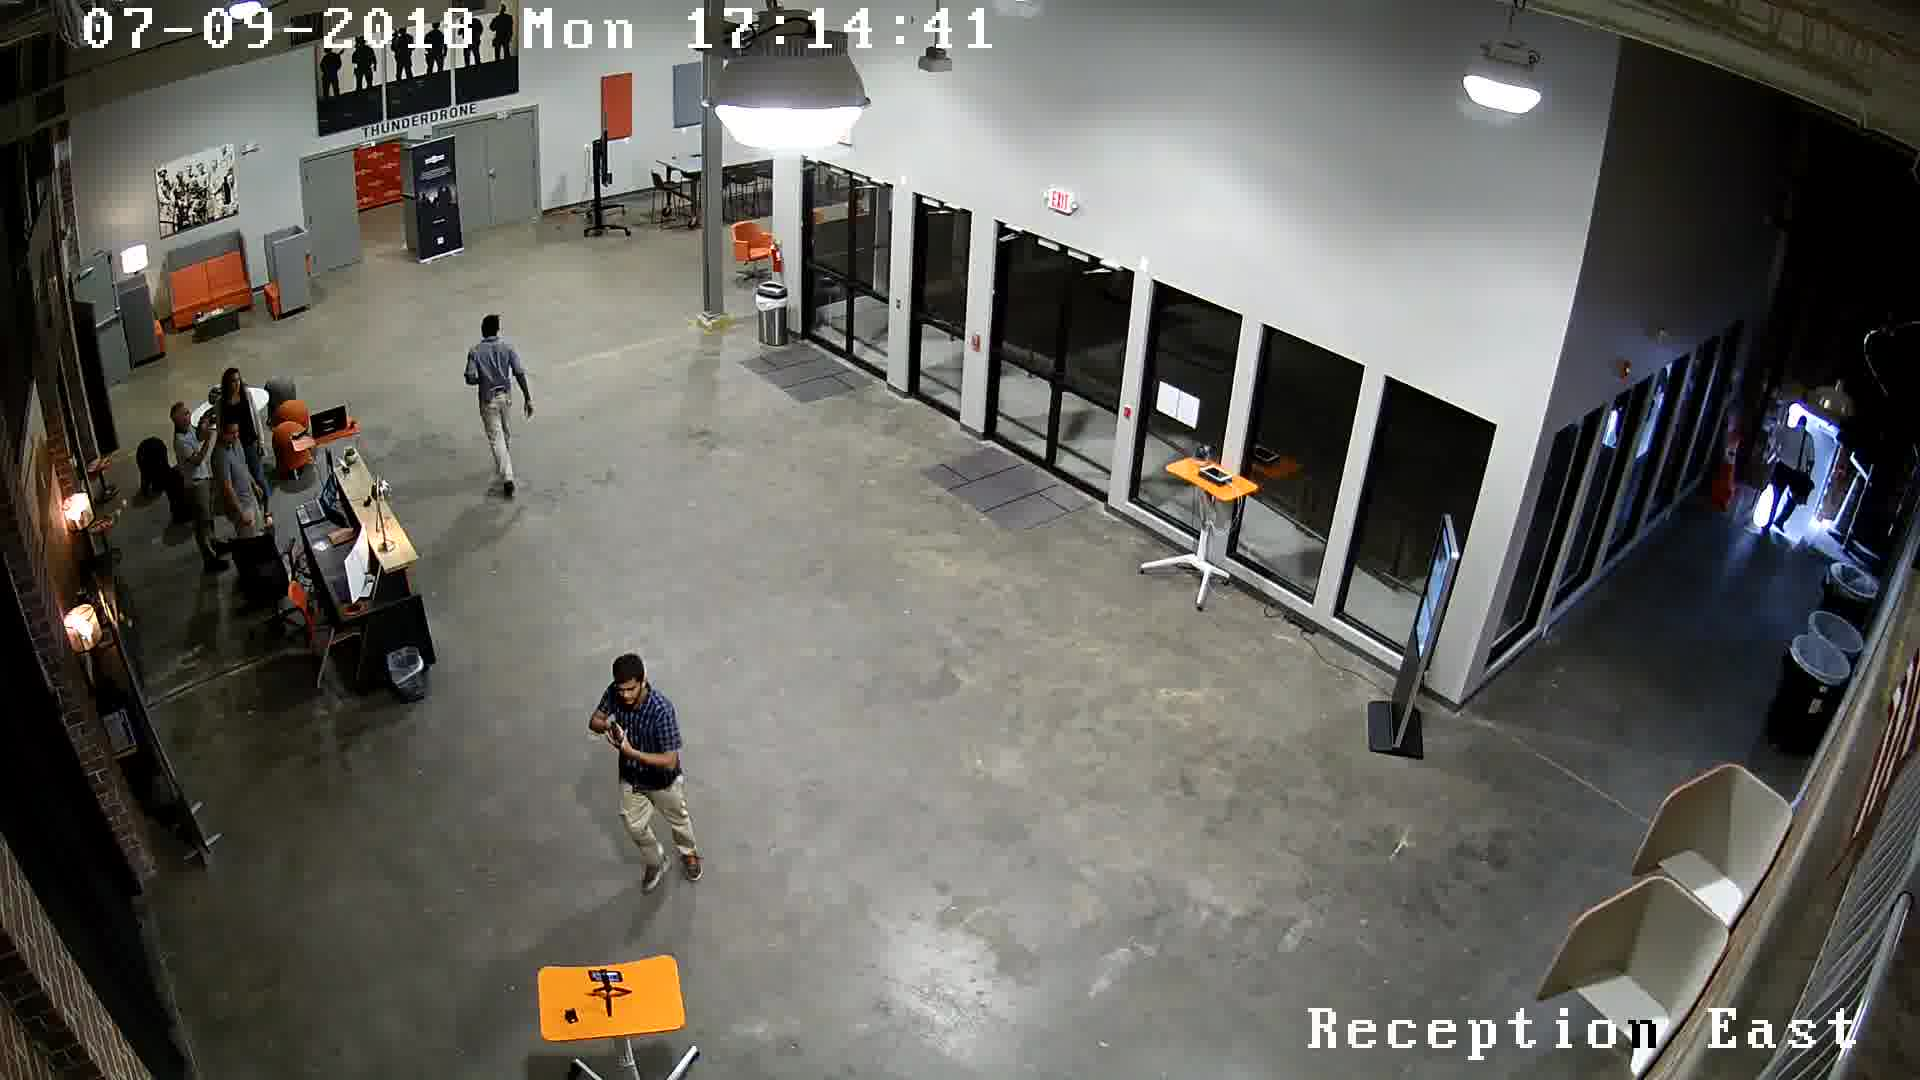pistol: (595, 717, 626, 760)
